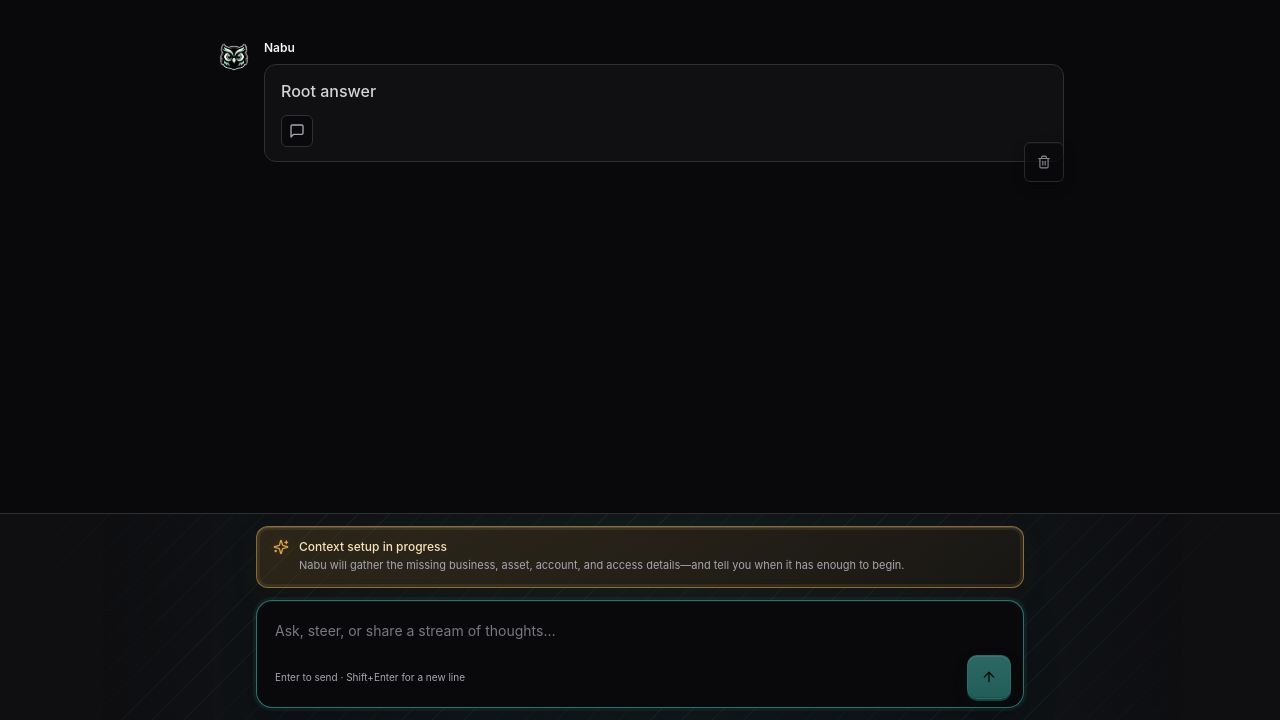
Test: ChatPage message deletion › opens a non-modal thread pane while the main conversation remains interactive
This screenshot has width=1280, height=720.
Click the button named "Reply in thread" at (297, 131), box [281,115,313,147]
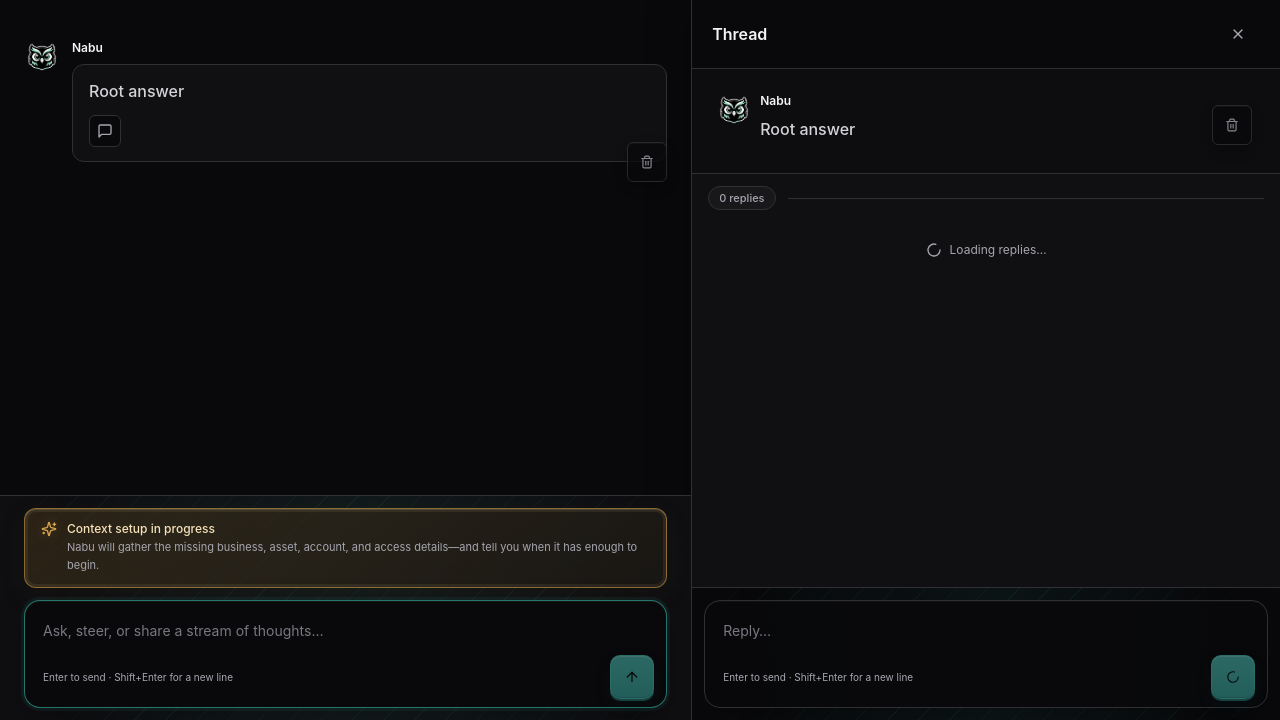
Expected: the text box named "Message Nabu" is enabled, [31,607,660,655]
Result: the element "Thread" is shown at [691,0,1279,719]
Result: the text box named "Reply in thread" is enabled at [711,607,1261,655]
Click the button named "Close thread" at (1238, 34), box [1216,12,1260,56]
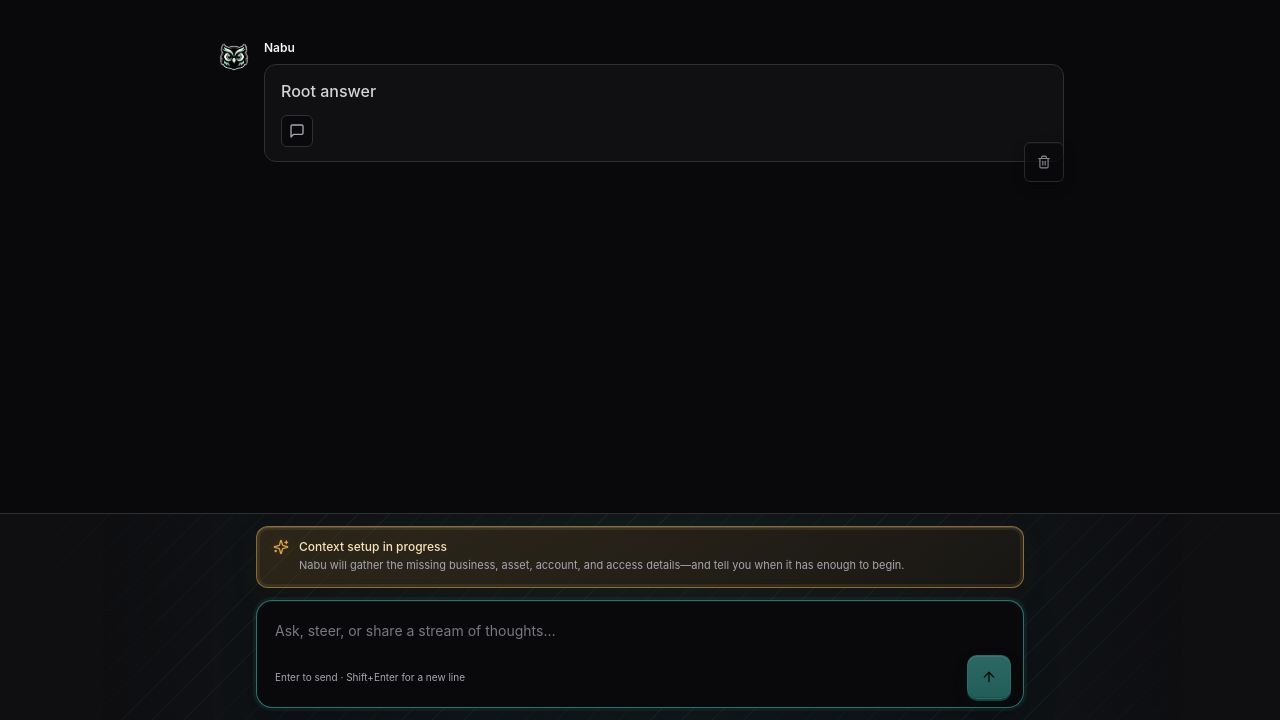
Result: the heading "Thread" is gone
